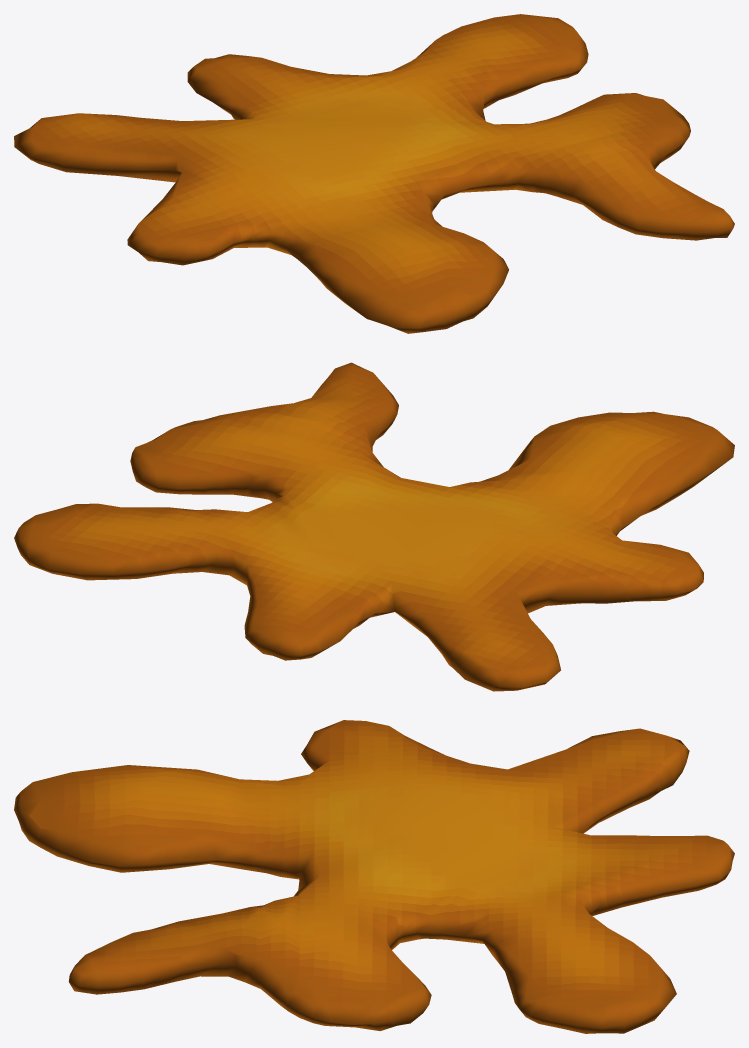
File: Sauce.obj
3 renders of one model, top to bottom at view 1: azimuth 30°, elevation 25°; view 2: azimuth 150°, elevation 25°; view 3: azimuth 270°, elevation 25°, orthographic. The views are drawn at different scales.
Parts seen in each view (by area): view 1: polySurface19; view 2: polySurface19; view 3: polySurface19.
Part boxes in pixels (bbox=[...]): polySurface19: bbox=[14, 14, 734, 333]; polySurface19: bbox=[14, 362, 734, 691]; polySurface19: bbox=[14, 720, 734, 1033].
Bounding box in the file's own units: 144 × 11.11 × 146.
1 material, 1 textured.
